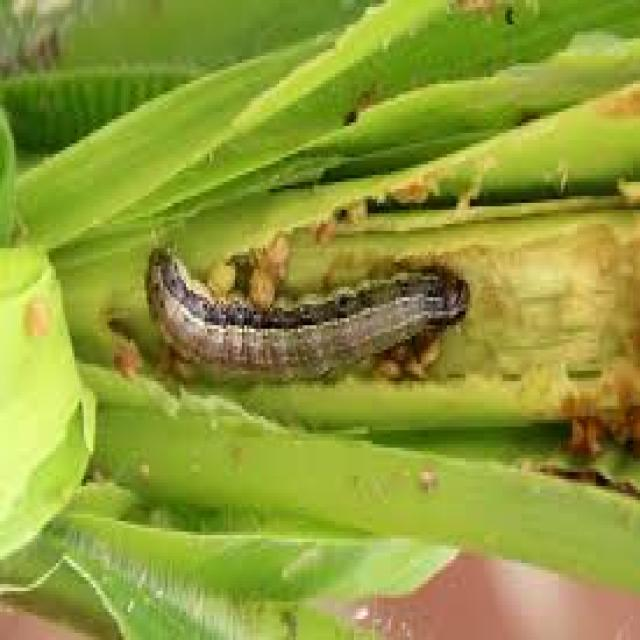Fall-Armyworm: (142, 221, 476, 405)
